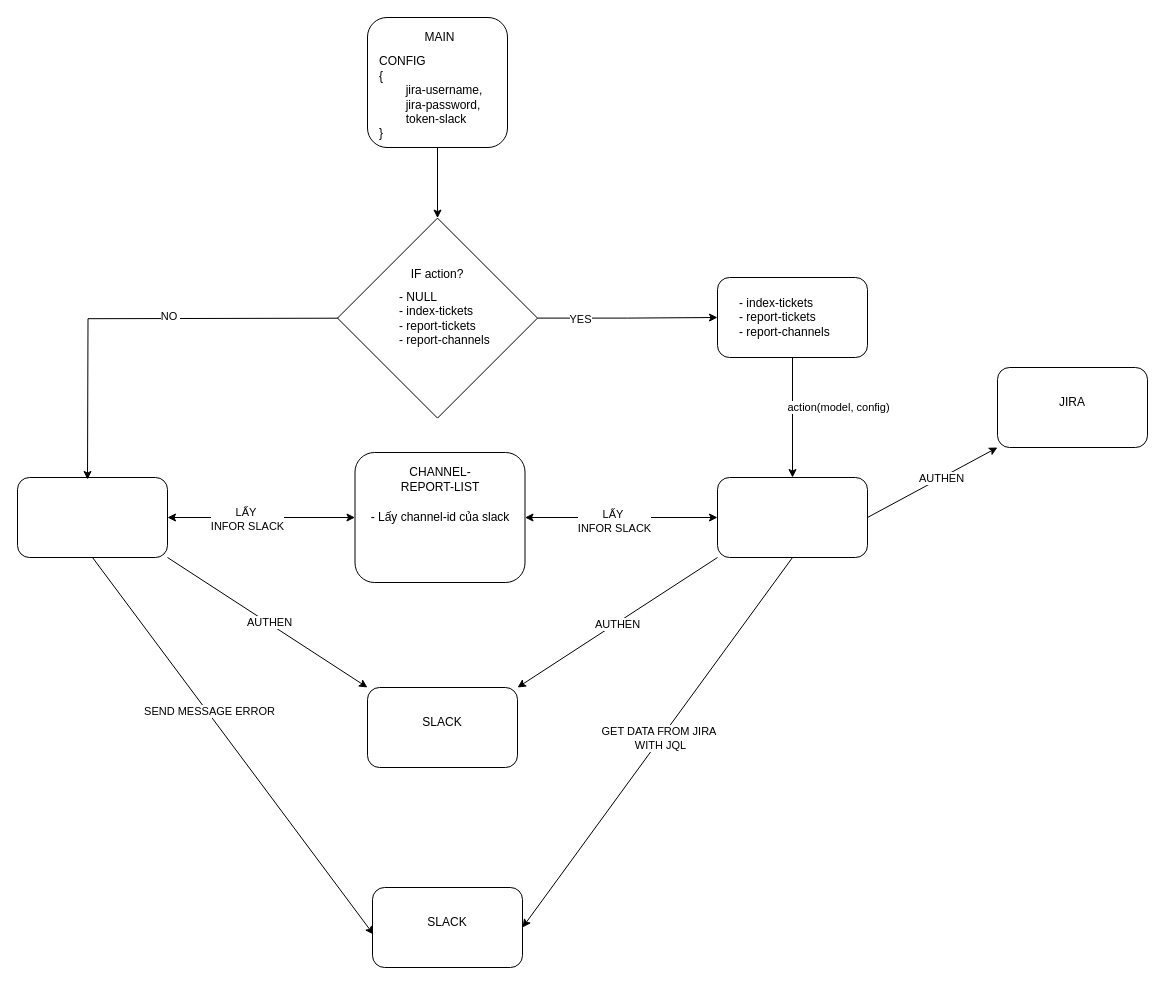
This 1165x985 diagram has some shape labels left out. The box of each missing label's shape, as (x1, y1, x2, y2) in pixels:
ACTION: (716, 476, 868, 558)
NULL: (16, 476, 168, 558)
